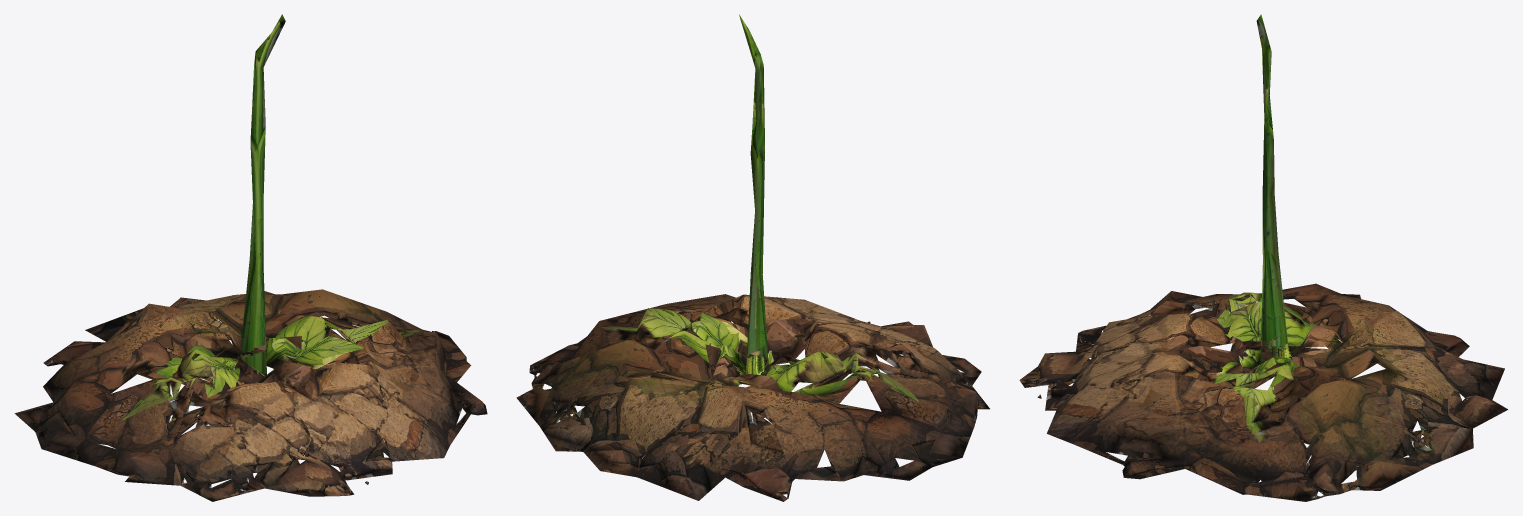
File: Crop_Tomato_Sprout.fbx
3 renders of one model, left to right at view 1: azimuth 30°, elevation 25°; view 2: azimuth 150°, elevation 25°; view 3: azimuth 270°, elevation 25°, orthographic. The views are drawn at different scales.
Visible parts, largest first — view 1: texture_mapping; view 2: texture_mapping; view 3: texture_mapping.
Part boxes in pixels (x1,y1,x2,y2): texture_mapping: (14, 14, 487, 501); texture_mapping: (516, 14, 989, 501); texture_mapping: (1019, 14, 1507, 501).
Size of the model in its own units: 0.9623 by 0.943 by 0.8414.
Materials: 1 (1 with a texture image).
